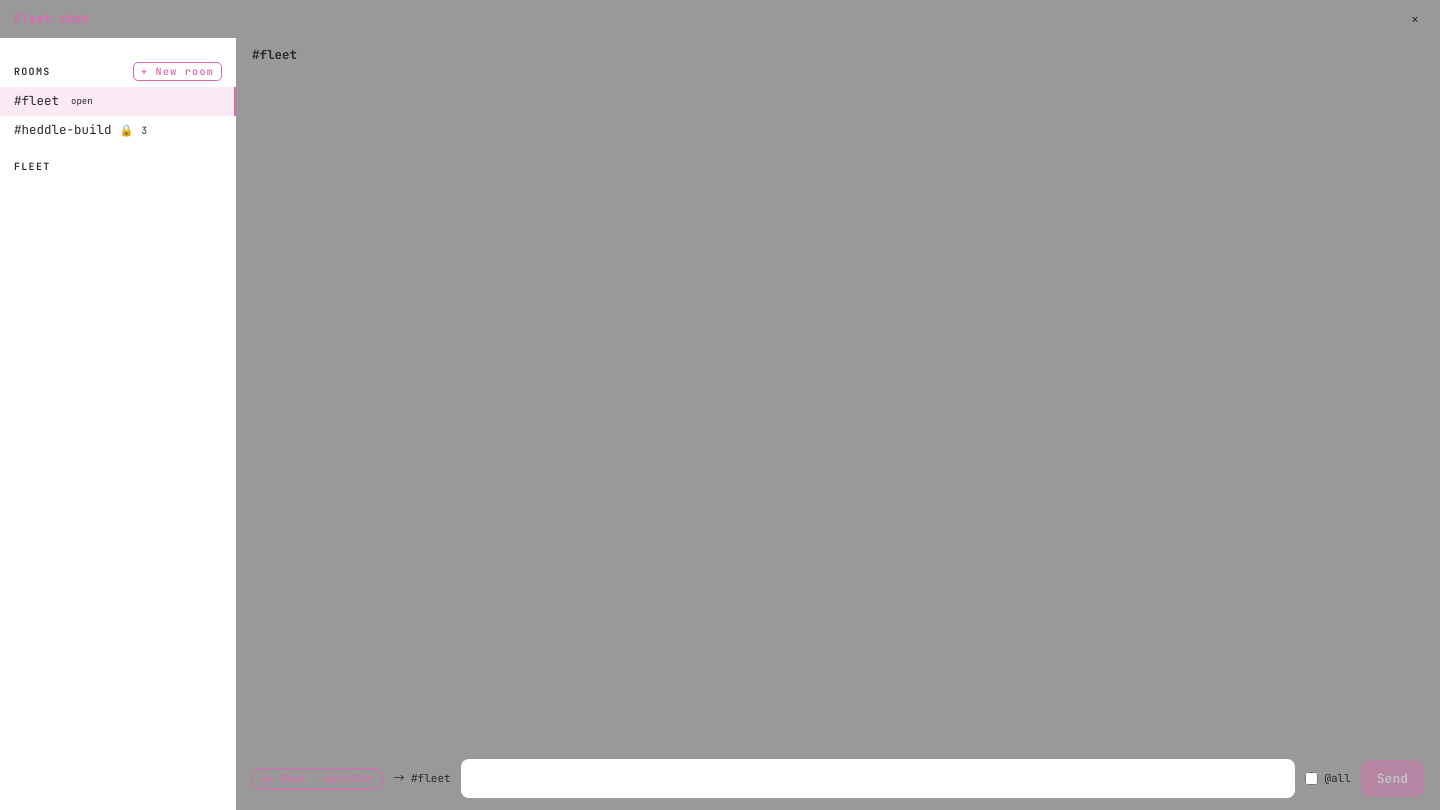
Test case: ChatroomPane — HED-74c operator composer + room management wiring › member controls appear in the header for an active CLOSED room, and are absent for an open room
Expected: the element with test id "comms-rail" is shown, [0, 38, 236, 809]
What coordinates should you click on to do the following:
click the button with test id "comms-room-#heddle-build"
I would click on:
 (81, 129)
Its box is [14, 121, 147, 138].
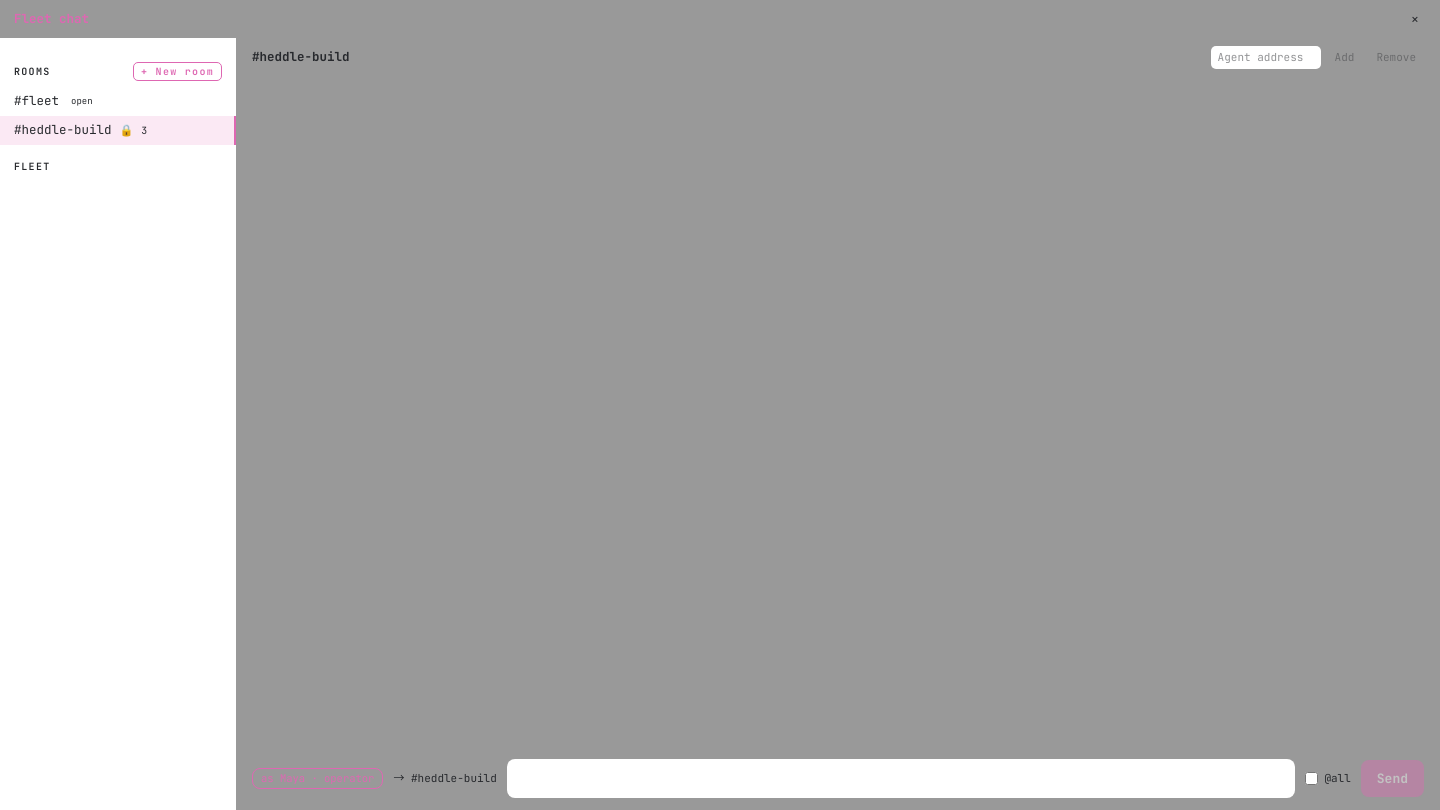
Now the element with test id "comms-member-controls" is shown, box [1211, 46, 1424, 68]
